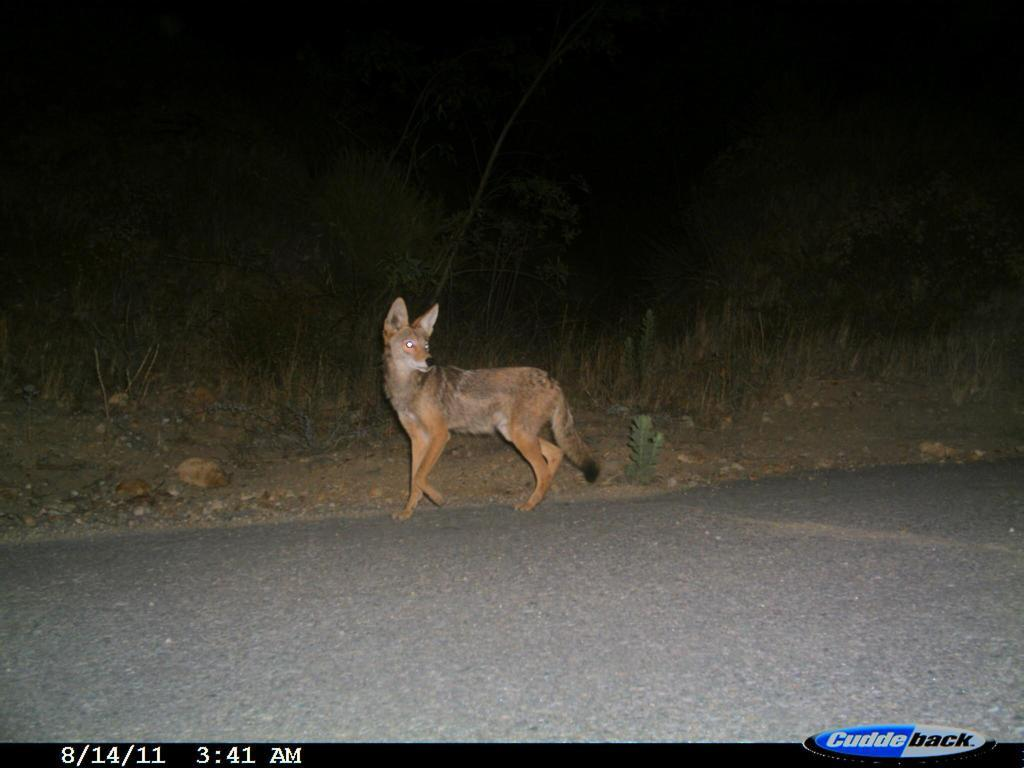coyote: (365, 297, 614, 527)
